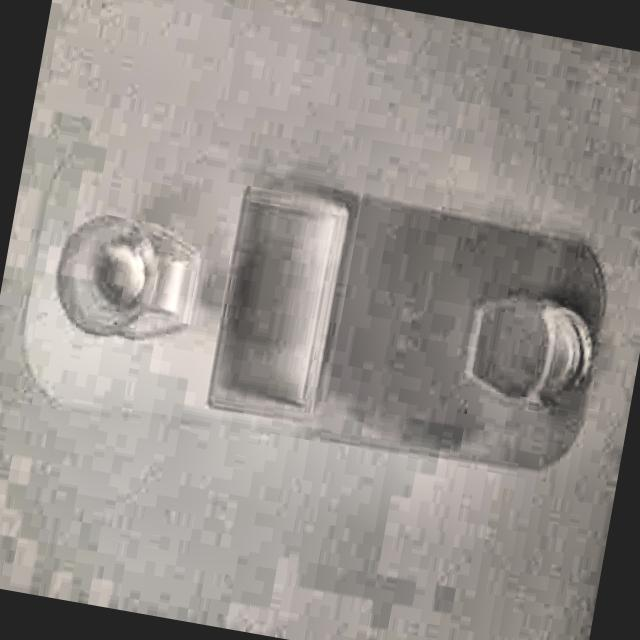plastic: (11, 138, 616, 486)
